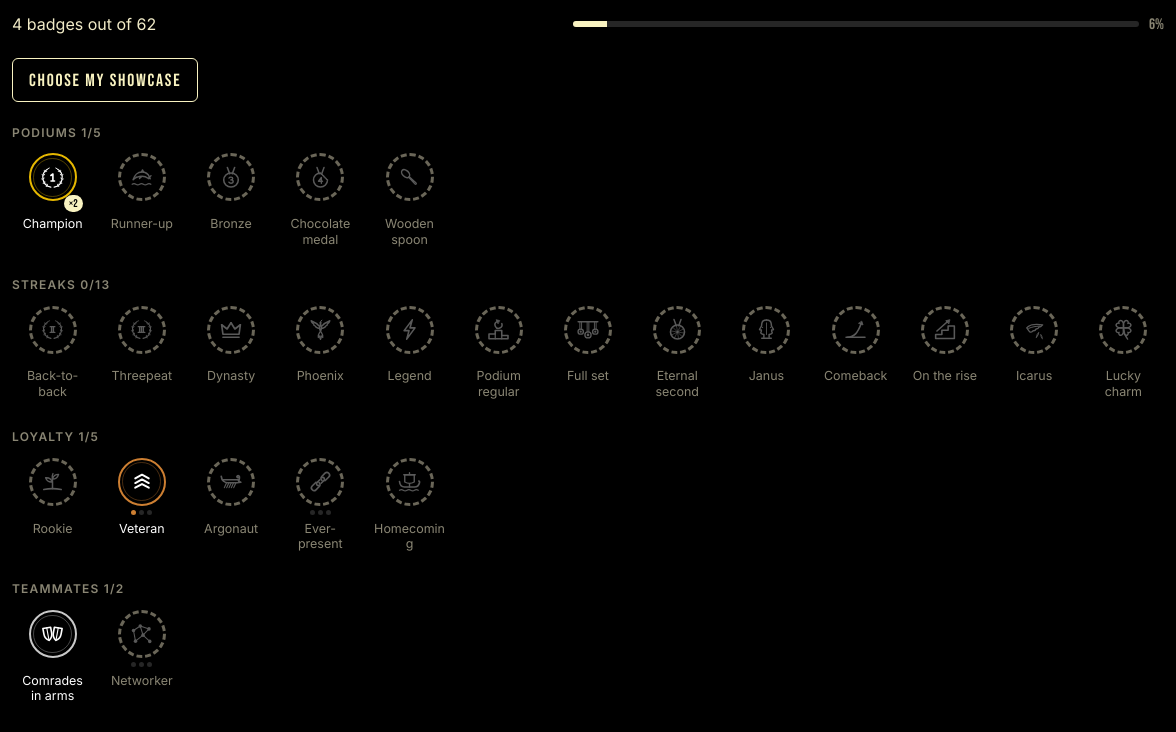
it: BadgeCollection showcase selection (the owner) › clears the alert of a failed save once the picks change
Click the button "Choose my showcase" at (105, 80), box [12, 58, 198, 102]
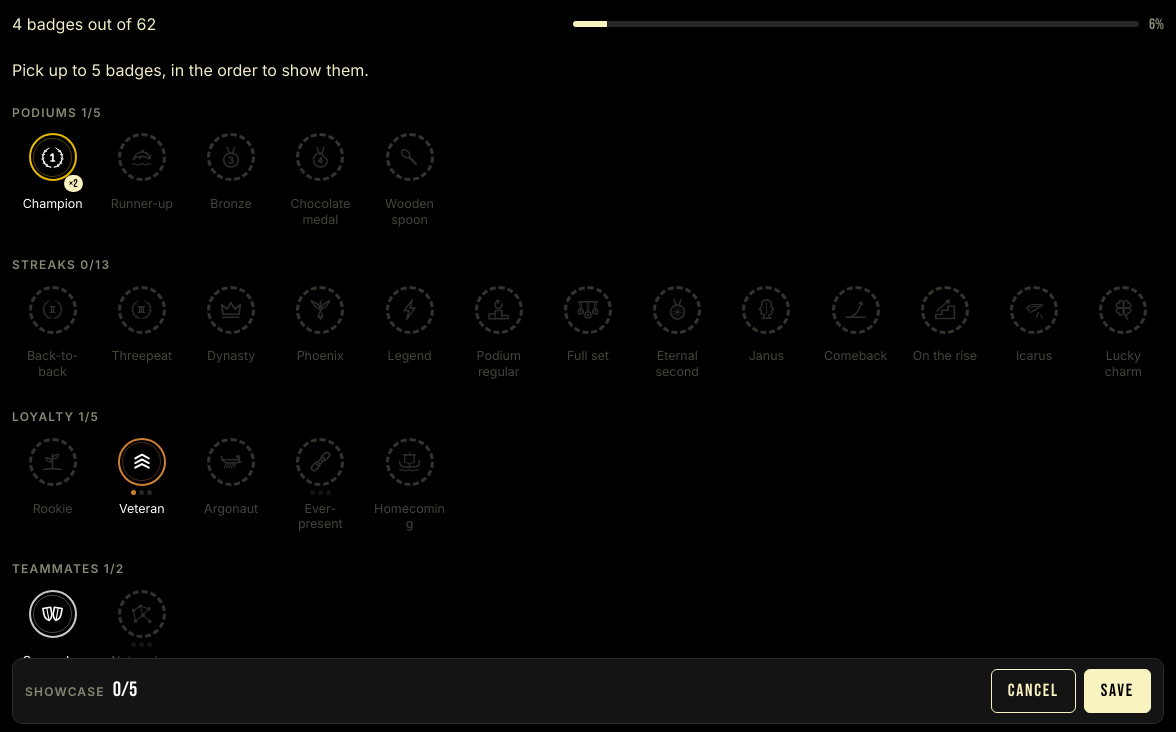
Click the button "Veteran" at (142, 485), box [101, 434, 182, 536]
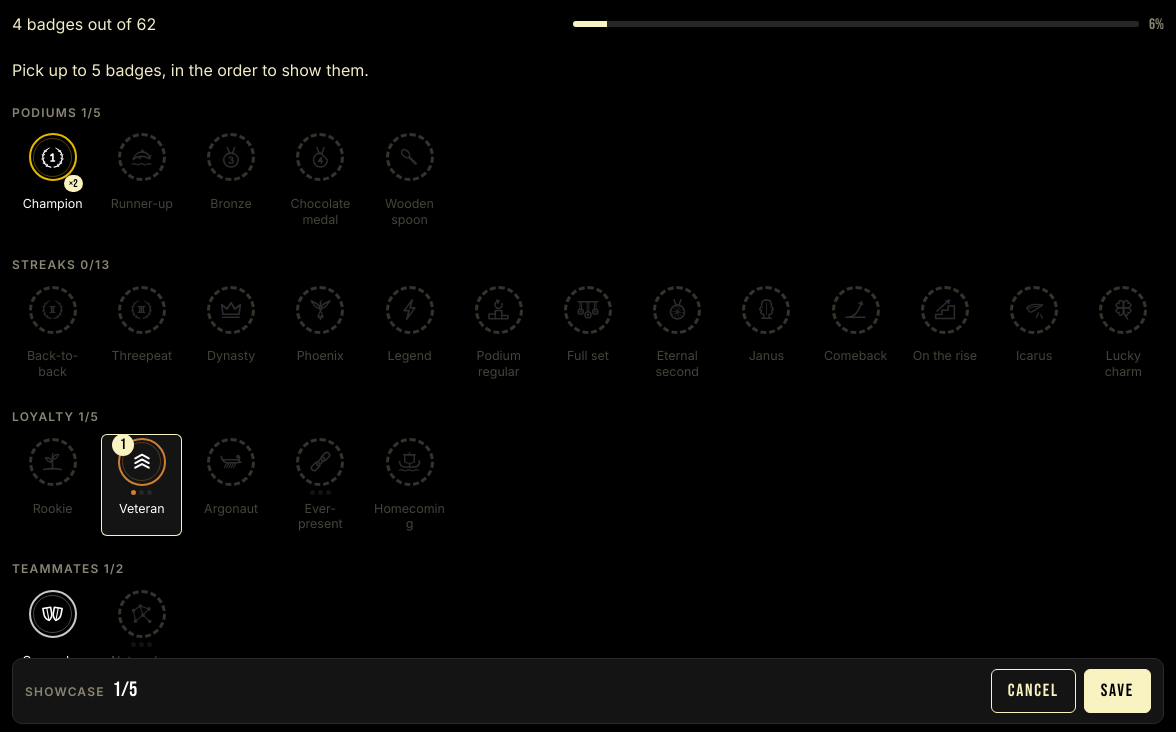
Click the button "Save" at (1117, 691), box [1084, 669, 1151, 713]
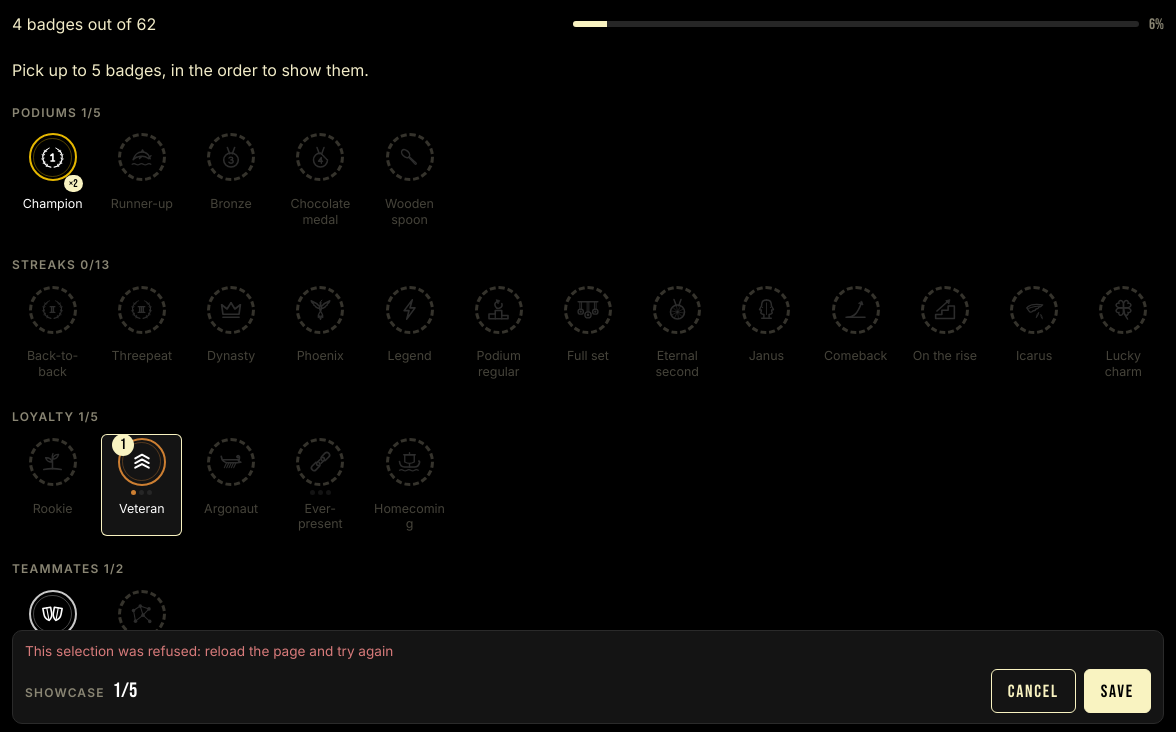
Expected: the message "This selection was refused: reload the page and try again" is shown, [25, 643, 393, 659]
Click the button "×2 Champion" at (53, 180), box [12, 129, 93, 231]
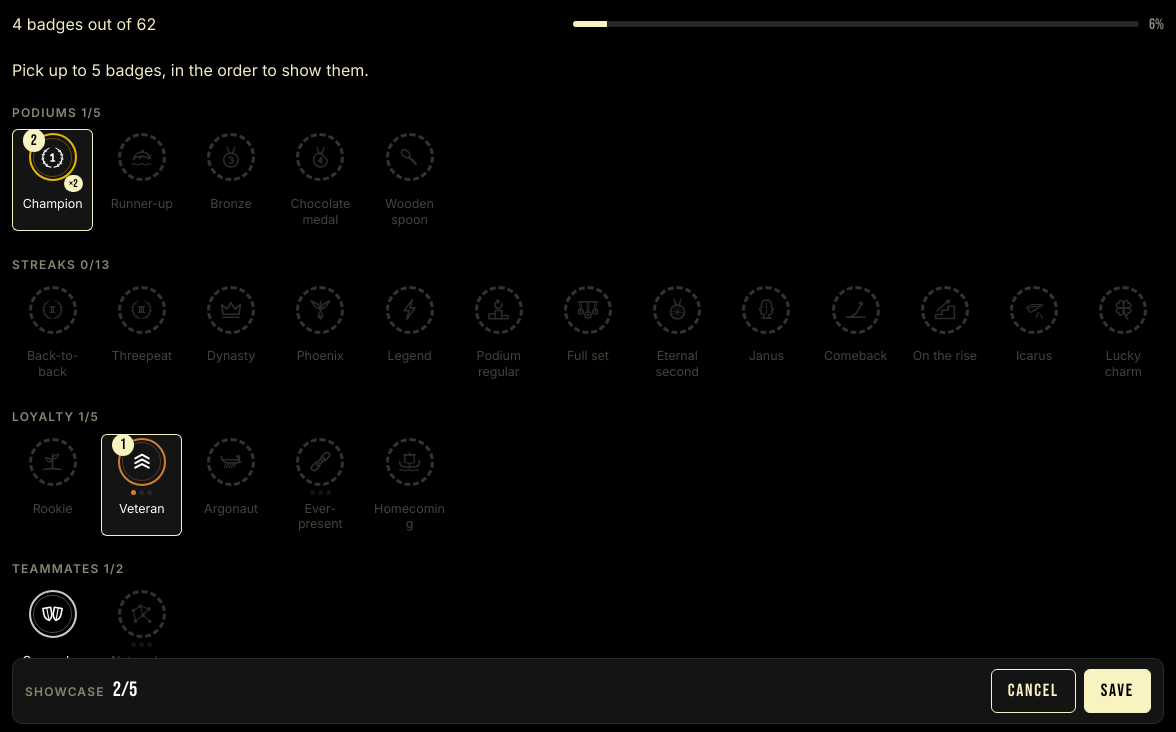
Expected: the message "This selection was refused: reload the page and try again" is gone
